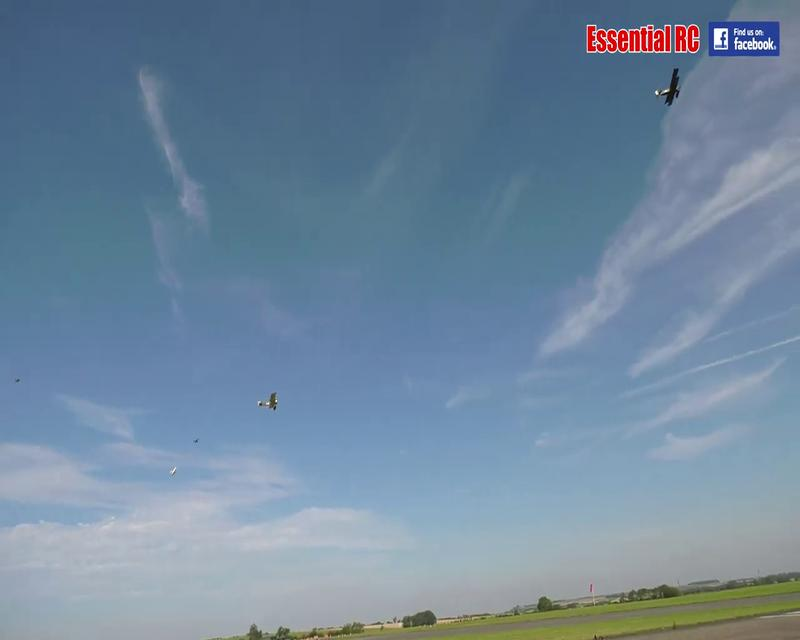UAV: (585, 22, 701, 54), (652, 62, 682, 107), (259, 390, 280, 413)
